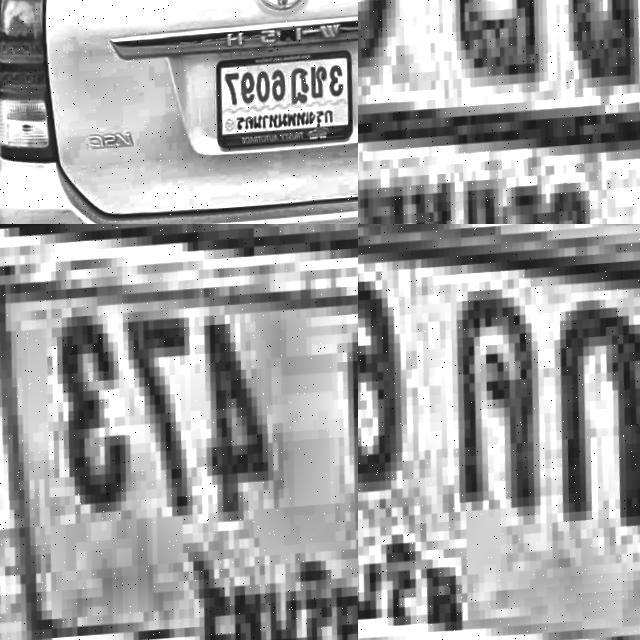license-plate: (0, 224, 358, 640), (358, 224, 640, 640), (358, 0, 640, 224), (209, 45, 358, 153)
